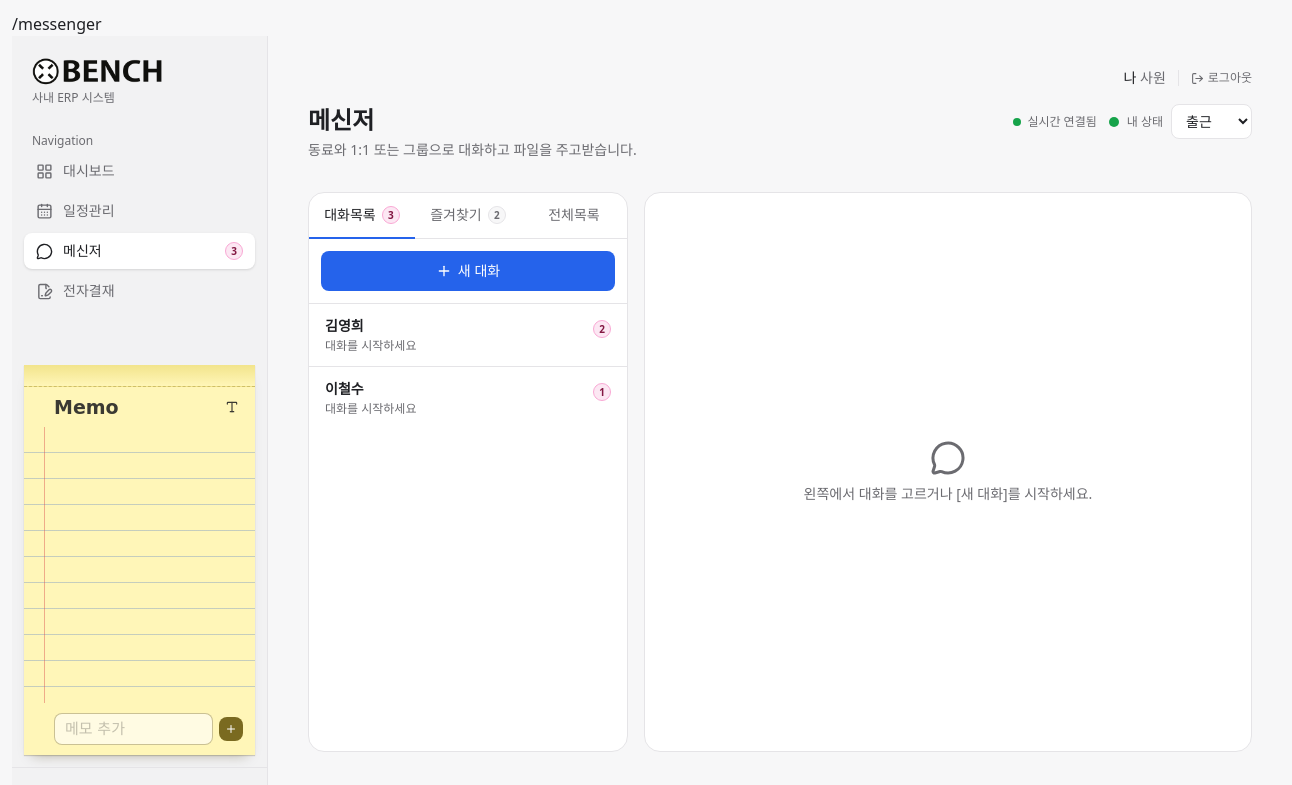
메신저 탭 › 즐겨찾기 탭: 즐겨찾기한 직원만 나온다
The width and height of the screenshot is (1292, 785).
Click the tab "즐겨찾기 2" at [468, 216], box left=415, top=193, right=521, bottom=239
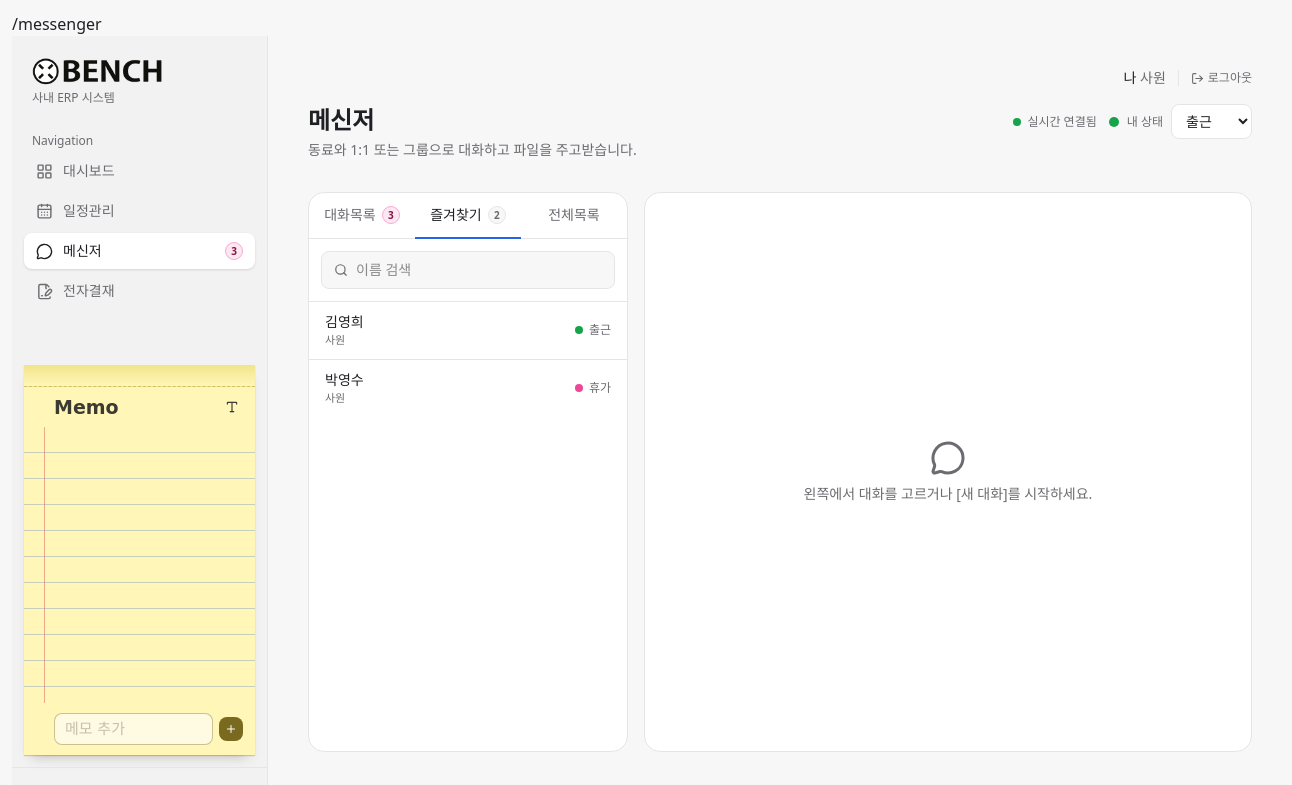
Expected: the text "김영희" is shown, left=325, top=312, right=364, bottom=331
Expected: the text "박영수" is shown, left=325, top=370, right=364, bottom=388
Expected: the button "이철수" is gone
